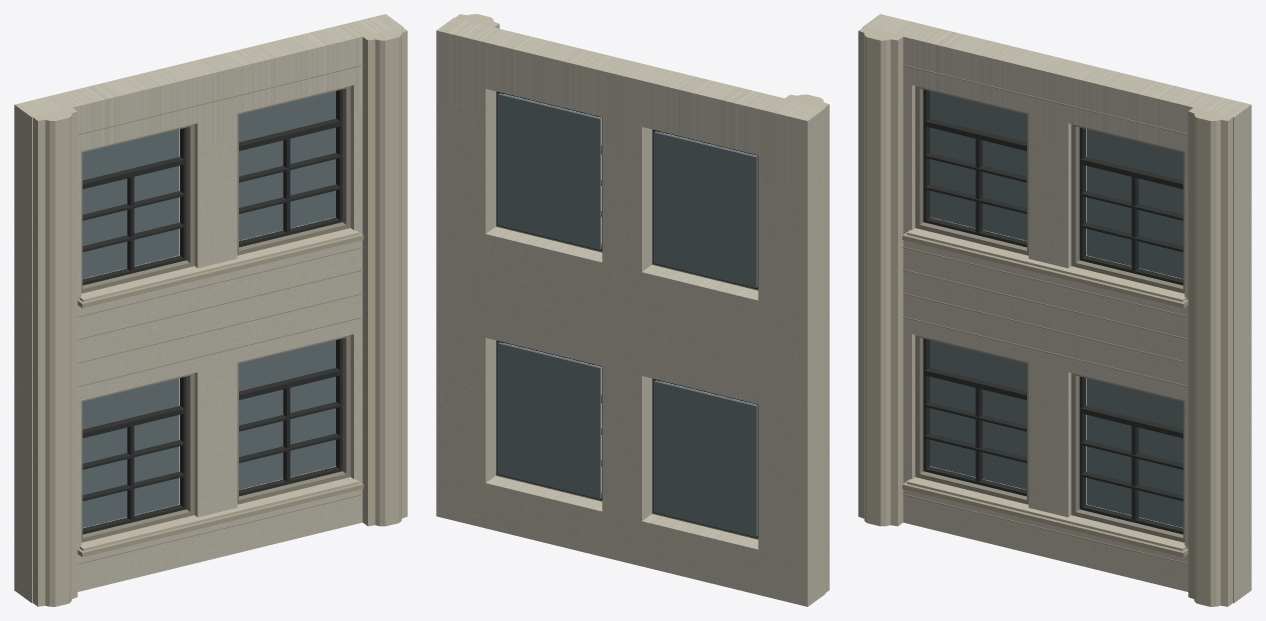
File: huangpu-whiteaway-laidlaw-facade-window-bay-raw.glb
The picture shows the model from 3 angles, left to right: view 1: azimuth 30°, elevation 25°; view 2: azimuth 150°, elevation 25°; view 3: azimuth 330°, elevation 25°; orthographic projection.
Visible parts, largest first — view 1: 惠罗公司大楼沿街竖带与横梃格窗; view 2: 惠罗公司大楼沿街竖带与横梃格窗; view 3: 惠罗公司大楼沿街竖带与横梃格窗.
Part boxes in pixels (x1=…): 惠罗公司大楼沿街竖带与横梃格窗: x1=14, y1=14, x2=407, y2=606; 惠罗公司大楼沿街竖带与横梃格窗: x1=436, y1=14, x2=829, y2=606; 惠罗公司大楼沿街竖带与横梃格窗: x1=858, y1=14, x2=1251, y2=606.
Size of the model in its own units: 4.12 by 5.15 by 0.522.
7 materials, 1 textured.
